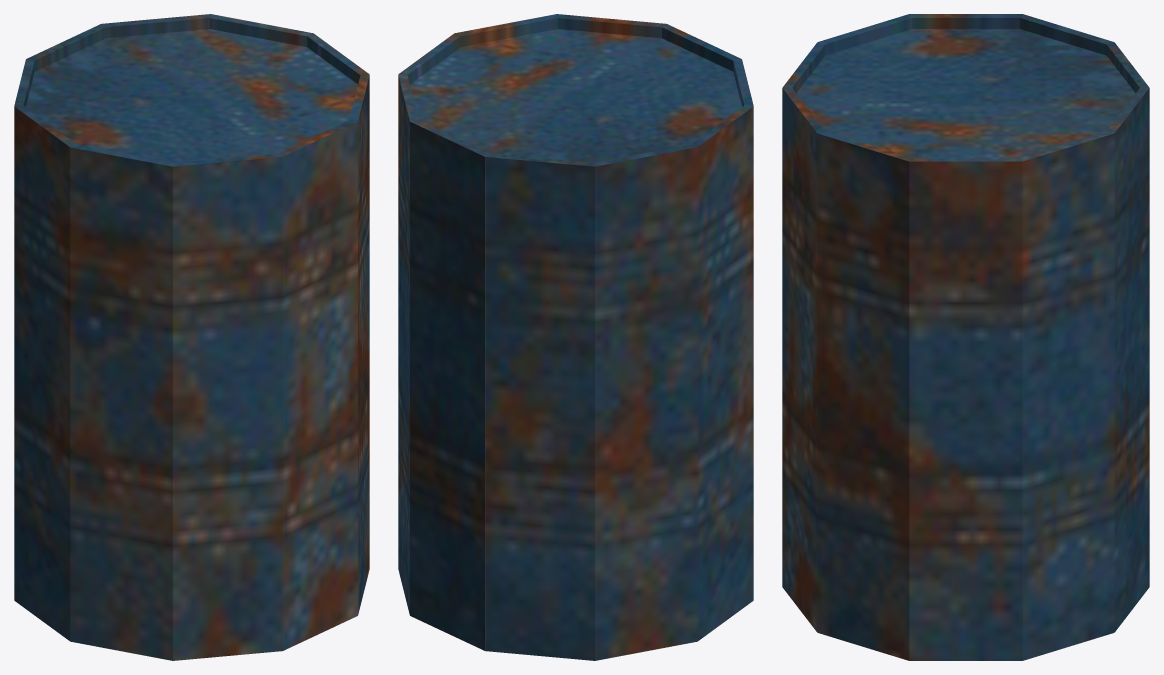
The model's file is SM_Barrel_01.fbx.
The picture shows the model from 3 angles, left to right: view 1: azimuth 30°, elevation 25°; view 2: azimuth 150°, elevation 25°; view 3: azimuth 270°, elevation 25°; orthographic projection.
Parts seen in each view (by area): view 1: SM_Barrel_01; view 2: SM_Barrel_01; view 3: SM_Barrel_01.
Part boxes in pixels (x1=…): SM_Barrel_01: x1=14, y1=14, x2=369, y2=660; SM_Barrel_01: x1=398, y1=14, x2=753, y2=660; SM_Barrel_01: x1=782, y1=14, x2=1149, y2=660.
Bounding box in the file's own units: 114 × 180 × 120.
